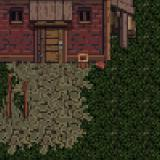Interaction: (0, 81, 31, 121)
Obstacle: (0, 0, 159, 100)
